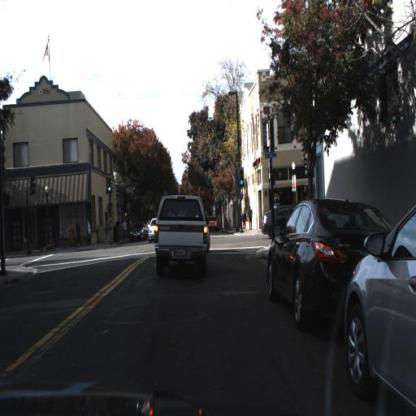car: (265, 195, 393, 325), (153, 190, 216, 287), (262, 203, 302, 241), (146, 213, 162, 245)
pedestrian: (75, 217, 84, 248), (86, 219, 95, 248), (66, 221, 76, 246), (108, 217, 116, 245), (122, 215, 129, 238), (248, 206, 254, 232), (243, 207, 248, 233), (117, 218, 121, 241)
trafficLight-Green: (239, 166, 247, 191), (107, 180, 113, 196)
